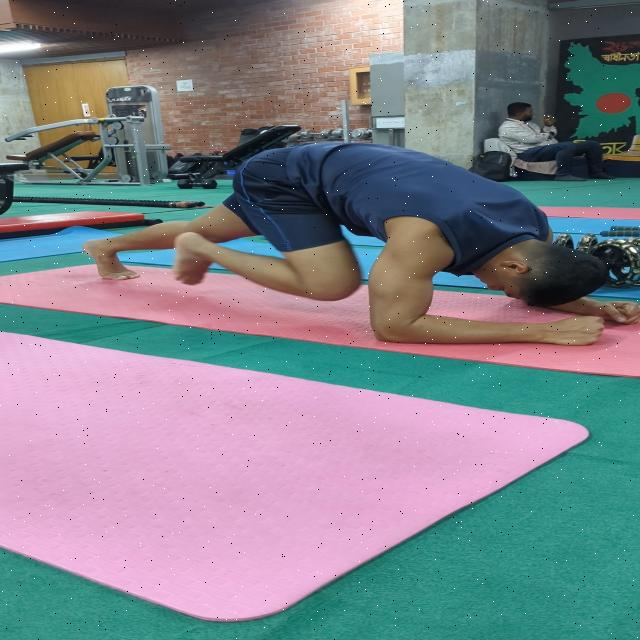Normal_MountainClimbers: (55, 132, 640, 358)
